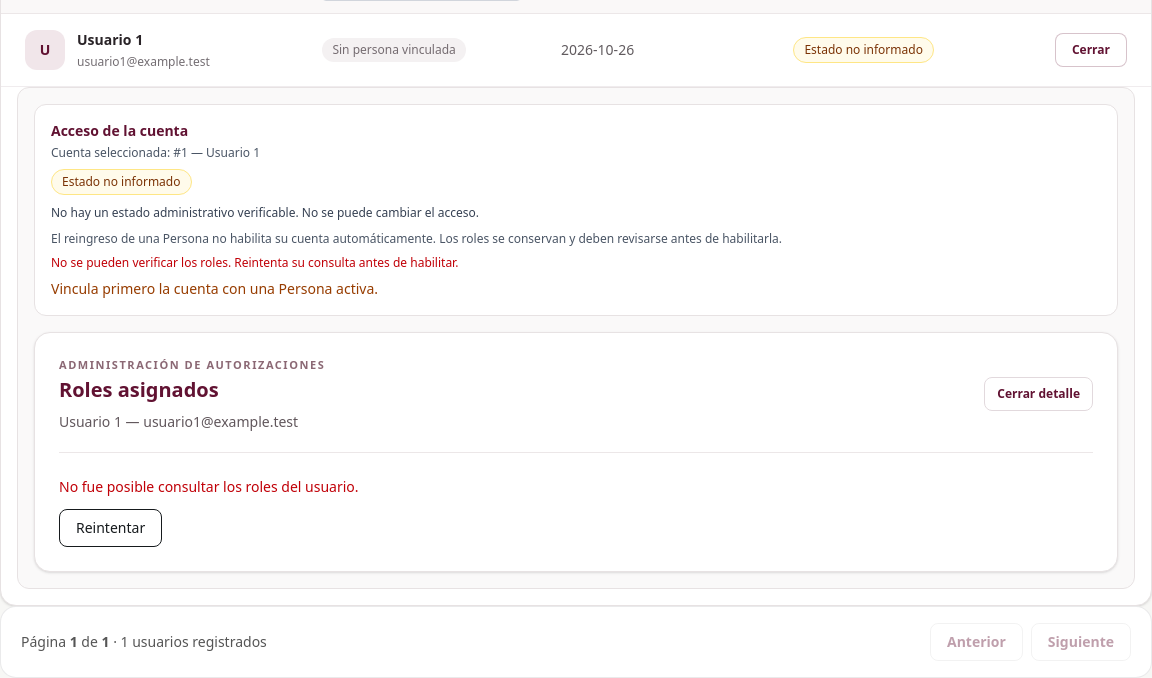
Test: UsersPageComponent › permite reintentar la consulta de roles
(page scrolled)
Click the button "Reintentar": (111, 528) x1=59 y1=509 x2=162 y2=547
(page scrolled)
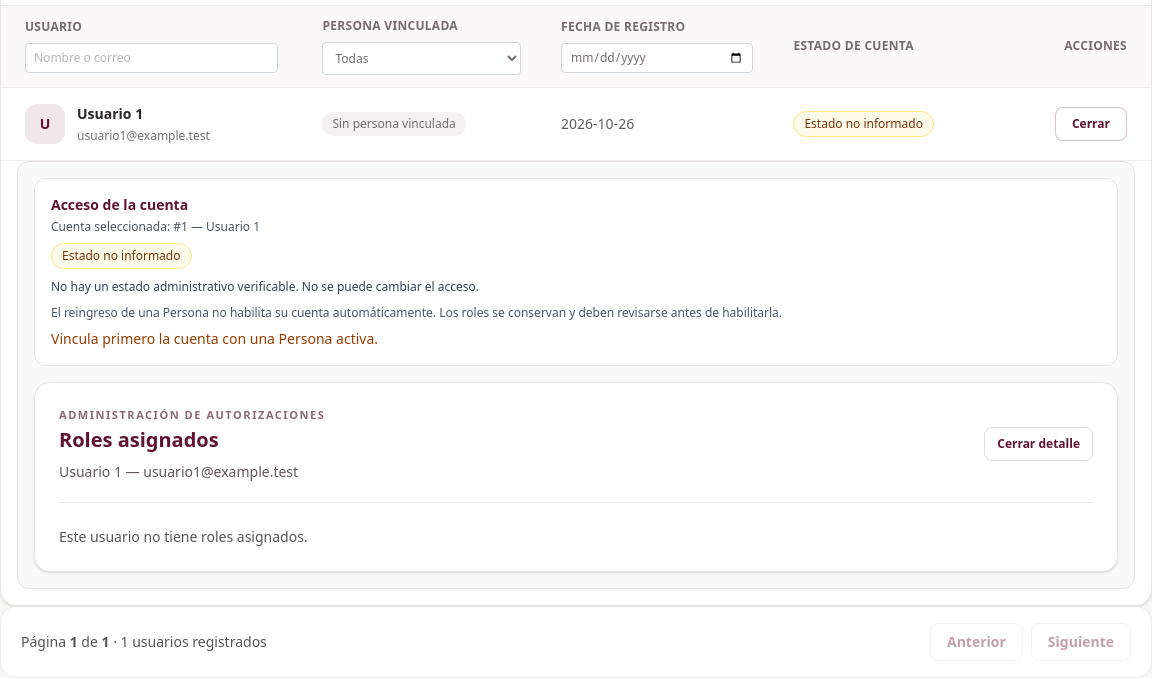
Expected: the text "Este usuario no tiene roles asignados." is shown, x1=59 y1=527 x2=308 y2=546
